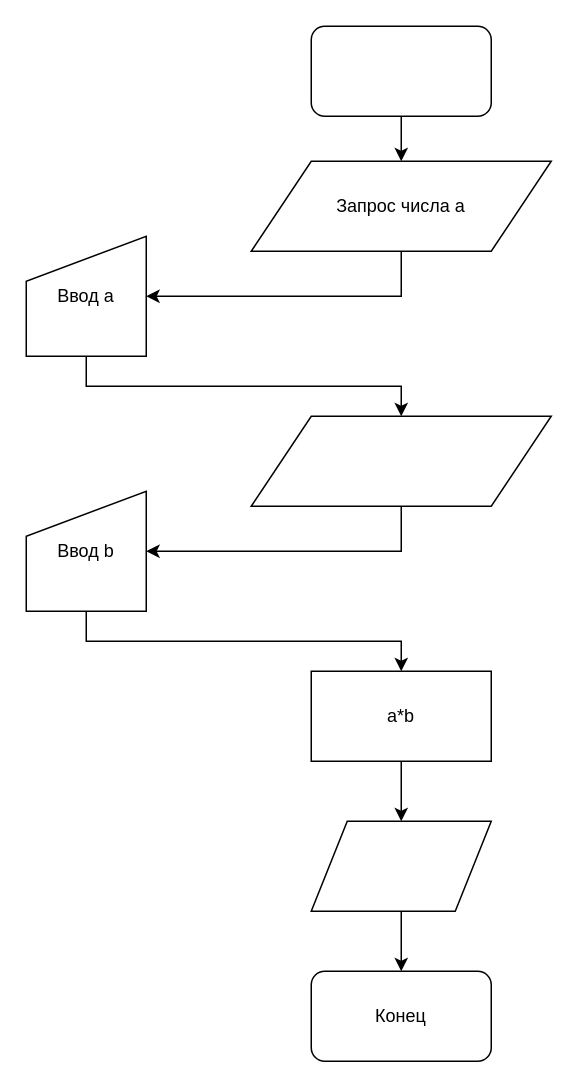
Some shapes in this 578 by 1088 pixel diagram are drawn without their labels. Each missing label, with the box of its shape:
Вывод: (310, 820, 491, 911)
Запрос числа b: (250, 415, 551, 506)
Начало: (310, 25, 491, 116)
